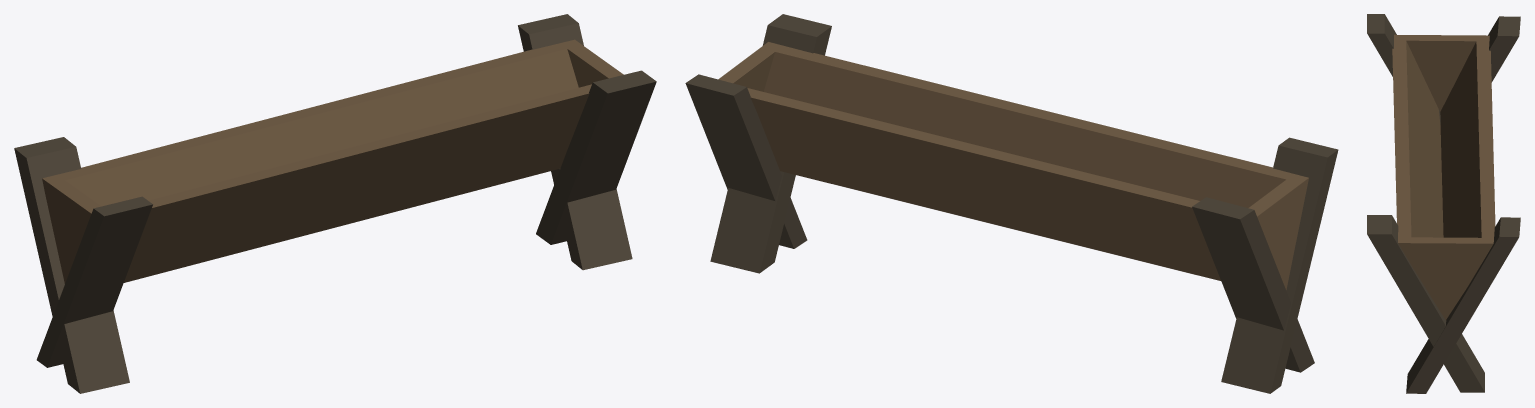
Rendered from trough.fbx.
The picture shows the model from 3 angles, left to right: view 1: azimuth 30°, elevation 25°; view 2: azimuth 150°, elevation 25°; view 3: azimuth 270°, elevation 25°; orthographic projection. The views are drawn at different scales.
Visible parts, largest first — view 1: Plane; view 2: Plane; view 3: Plane.
Part boxes in pixels (<box>): Plane: <box>14,14,656,393</box>; Plane: <box>685,14,1338,393</box>; Plane: <box>1367,14,1520,393</box>.
Size of the model in its own units: 1114 by 373 by 326.
